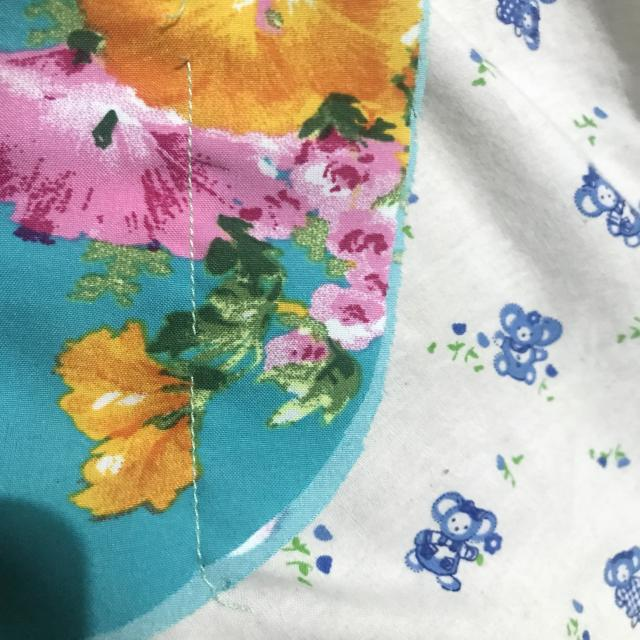broken: (175, 320, 206, 392)
good: (179, 222, 211, 302)
